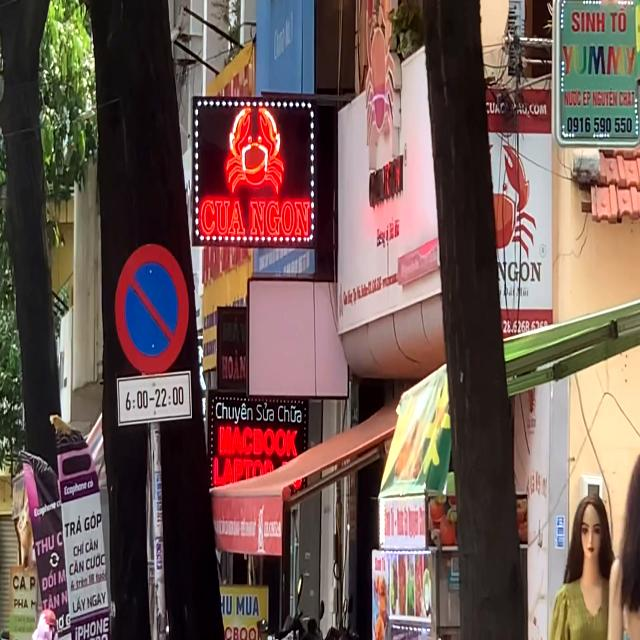P.131a: (114, 243, 190, 374)
